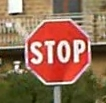stop: (24, 16, 90, 84)
